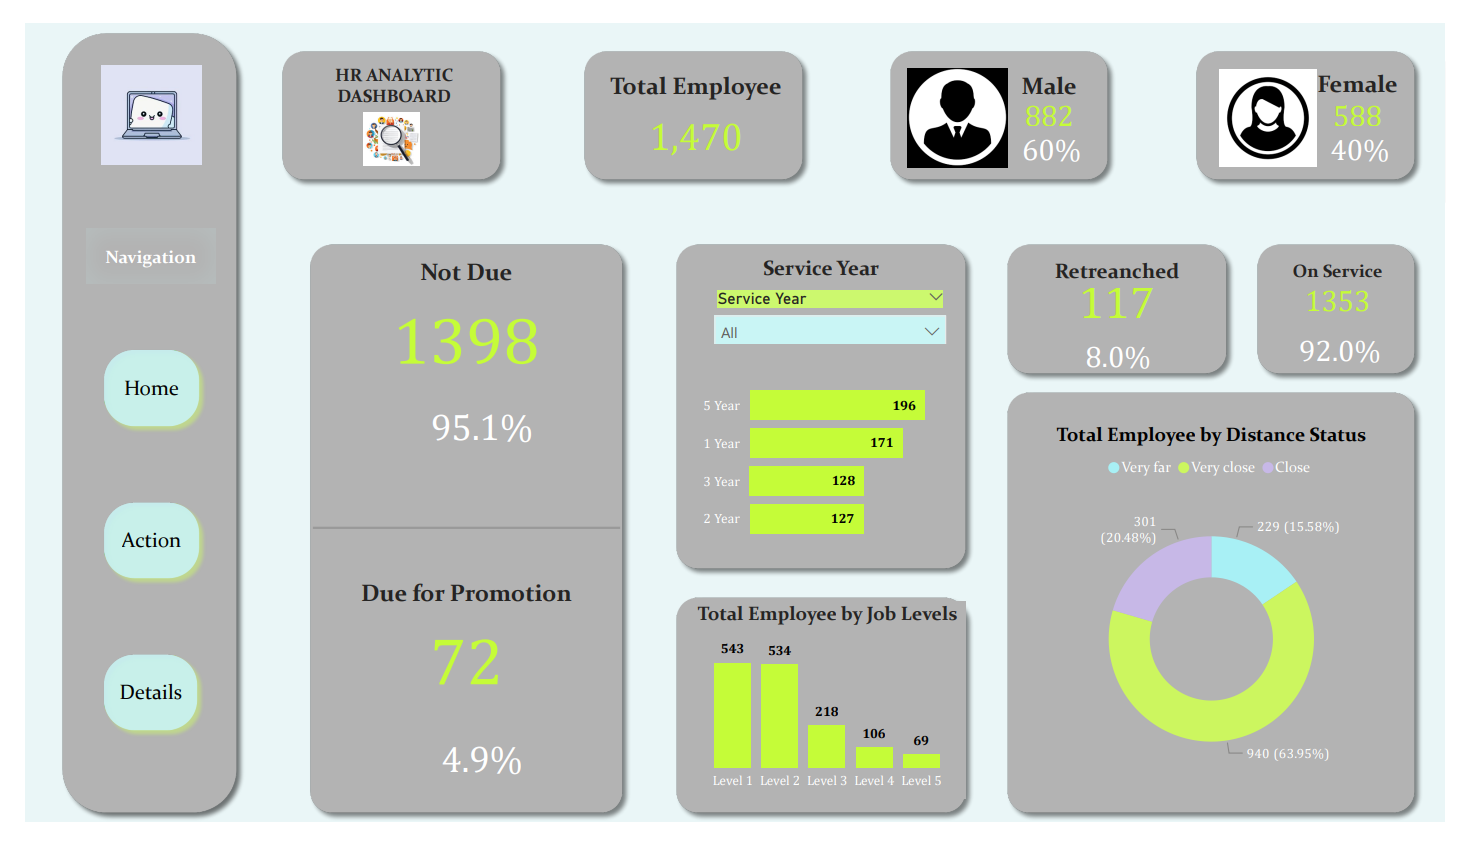

This screenshot's page, from the dashboard's own definition file:
{"tool":"powerbi","page":{"name":"Home","canvas":[1280,720],"ordinal":0},"visuals":[{"type":"shape","box":[24.7,0,174.1,719.8],"z":0},{"type":"shape","box":[248.2,190.6,298.9,529.2],"z":1000},{"type":"shape","box":[223.5,16.5,213.9,133],"z":2000},{"type":"shape","box":[578.1,190.9,278.1,309.5],"z":3000},{"type":"shape","box":[494.9,16.5,213.9,133],"z":4000},{"type":"shape","box":[578.1,508.6,278.1,211.3],"z":5000},{"type":"shape","box":[770.5,16.5,213.9,133],"z":6000},{"type":"shape","box":[877.5,190.6,213.9,133],"z":7000},{"type":"shape","box":[1047.5,16.5,213.9,133],"z":8000},{"type":"shape","box":[1102.3,190.6,159,133],"z":9000},{"type":"shape","box":[877.5,323.6,383.9,396.2],"z":10000},{"type":"textbox","box":[237.2,31.5,190.6,65.8],"z":11000},{"type":"image","box":[300,75,60,58],"z":12000},{"type":"card","title":"Total Employee","fields":{"Values":["new measures.Total Emp"]},"box":[512,34,185,98],"z":13000},{"type":"card","title":"Male","fields":{"Values":["new measures.Male"]},"box":[877.5,34.3,91.9,63.1],"z":14000},{"type":"card","title":"Female","fields":{"Values":["new measures.Female"]},"box":[1154.4,32.9,93.2,64.4],"z":15000},{"type":"card","title":"Female","fields":{"Values":["new measures.% Female"]},"box":[1154.4,79.5,97.3,64.4],"z":16000},{"type":"card","title":"Male","fields":{"Values":["new measures.% male"]},"box":[877.5,79.5,96,64.4],"z":17000},{"type":"image","box":[790,35,100,100],"z":18000},{"type":"image","box":[1069.4,35.6,100.1,98.7],"z":19000},{"type":"donutChart","title":"Total Employee by Distance Status","fields":{"Y":["new measures.Total Employee"],"Category":["Sheet1.Distance Status"]},"box":[913.5,358.6,310.9,340.9],"z":20000},{"type":"columnChart","title":"Total Employee by Job Levels","fields":{"Y":["new measures.Total Employee"],"Category":["Sheet1.Job Levels"]},"box":[598.6,520.8,248.1,178.6],"z":21000},{"type":"card","title":"Not Due","fields":{"Values":["new measures.Not due"]},"box":[274.2,211.1,246.8,112.4],"z":22000},{"type":"card","fields":{"Values":["new measures.% Not due"]},"box":[287.9,324.9,246.8,75.4],"z":23000},{"type":"card","title":"Due for Promotion","fields":{"Values":["new measures.Due for promotion"]},"box":[274.2,500.4,246.8,112.4],"z":24000},{"type":"card","fields":{"Values":["new measures.% Due for promotion"]},"box":[287.9,623.8,246.8,75.4],"z":25000},{"type":"shape","box":[259.1,304.4,277,300.3],"z":26000},{"type":"barChart","title":"Service Year","fields":{"Category":["Sheet1.Service Year"],"Y":["new measures.Total Employee"]},"box":[604,304,237.2,174.5],"z":27000},{"type":"card","title":"Female","fields":{"Values":["new measures.% On service"]},"box":[1136.1,267.7,97.7,49.4],"z":28000},{"type":"card","title":"Retreanched","fields":{"Values":["new measures.Retreanchment Status"]},"box":[890.1,211.1,188.1,73.6],"z":29000},{"type":"card","title":"On Service","fields":{"Values":["new measures.On service"]},"box":[1136.1,203.8,94.1,63.9],"z":30000},{"type":"card","title":"Female","fields":{"Values":["new measures.% Will be retreanched"]},"box":[935.9,273.8,97.7,49.4],"z":31000},{"type":"image","box":[62.8,32.7,100.8,99.4],"z":32000},{"type":"actionButton","box":[62.8,286.4,100.8,84.5],"z":33000},{"type":"actionButton","box":[62.8,423.5,100.8,84.5],"z":34000},{"type":"actionButton","box":[63.1,560.6,100.1,84.4],"z":35000},{"type":"textbox","box":[55.3,184.8,115.8,49],"z":36000},{"type":"slicer","fields":{"Values":["Sheet1.Service Year"]},"box":[610.8,234.5,229.1,53.2],"z":37000},{"type":"textbox","title":"Service Year","box":[659.9,208.6,124.1,21.8],"z":38000}]}

Visuals, with their boxes in screenshot pixels (x1, y1, x2, y2), scaled from the page's 1280x720 canvas onto the 1470x846 screenshot:
shape: detection(28, 0, 228, 845)
shape: detection(285, 224, 628, 845)
shape: detection(257, 19, 502, 176)
shape: detection(664, 224, 983, 588)
shape: detection(568, 19, 814, 176)
shape: detection(664, 598, 983, 845)
shape: detection(885, 19, 1131, 176)
shape: detection(1008, 224, 1253, 380)
shape: detection(1203, 19, 1449, 176)
shape: detection(1266, 224, 1449, 380)
shape: detection(1008, 380, 1449, 845)
textbox: detection(272, 37, 491, 114)
image: detection(345, 88, 413, 156)
"Total Employee" card: detection(588, 40, 800, 155)
"Male" card: detection(1008, 40, 1113, 114)
"Female" card: detection(1326, 39, 1433, 114)
"Female" card: detection(1326, 93, 1437, 169)
"Male" card: detection(1008, 93, 1118, 169)
image: detection(907, 41, 1022, 159)
image: detection(1228, 42, 1343, 158)
"Total Employee by Distance Status" donutChart: detection(1049, 421, 1406, 822)
"Total Employee by Job Levels" columnChart: detection(687, 612, 972, 822)
"Not Due" card: detection(315, 248, 598, 380)
card - new measures.% Not due: detection(331, 382, 614, 470)
"Due for Promotion" card: detection(315, 588, 598, 720)
card - new measures.% Due for promotion: detection(331, 733, 614, 822)
shape: detection(298, 358, 616, 711)
"Service Year" barChart: detection(694, 357, 966, 562)
"Female" card: detection(1305, 315, 1417, 373)
"Retreanched" card: detection(1022, 248, 1238, 335)
"On Service" card: detection(1305, 239, 1413, 315)
"Female" card: detection(1075, 322, 1187, 380)
image: detection(72, 38, 188, 155)
actionButton: detection(72, 337, 188, 436)
actionButton: detection(72, 498, 188, 597)
actionButton: detection(72, 659, 187, 758)
textbox: detection(64, 217, 196, 275)
slicer - Sheet1.Service Year: detection(701, 276, 965, 338)
"Service Year" textbox: detection(758, 245, 900, 271)
